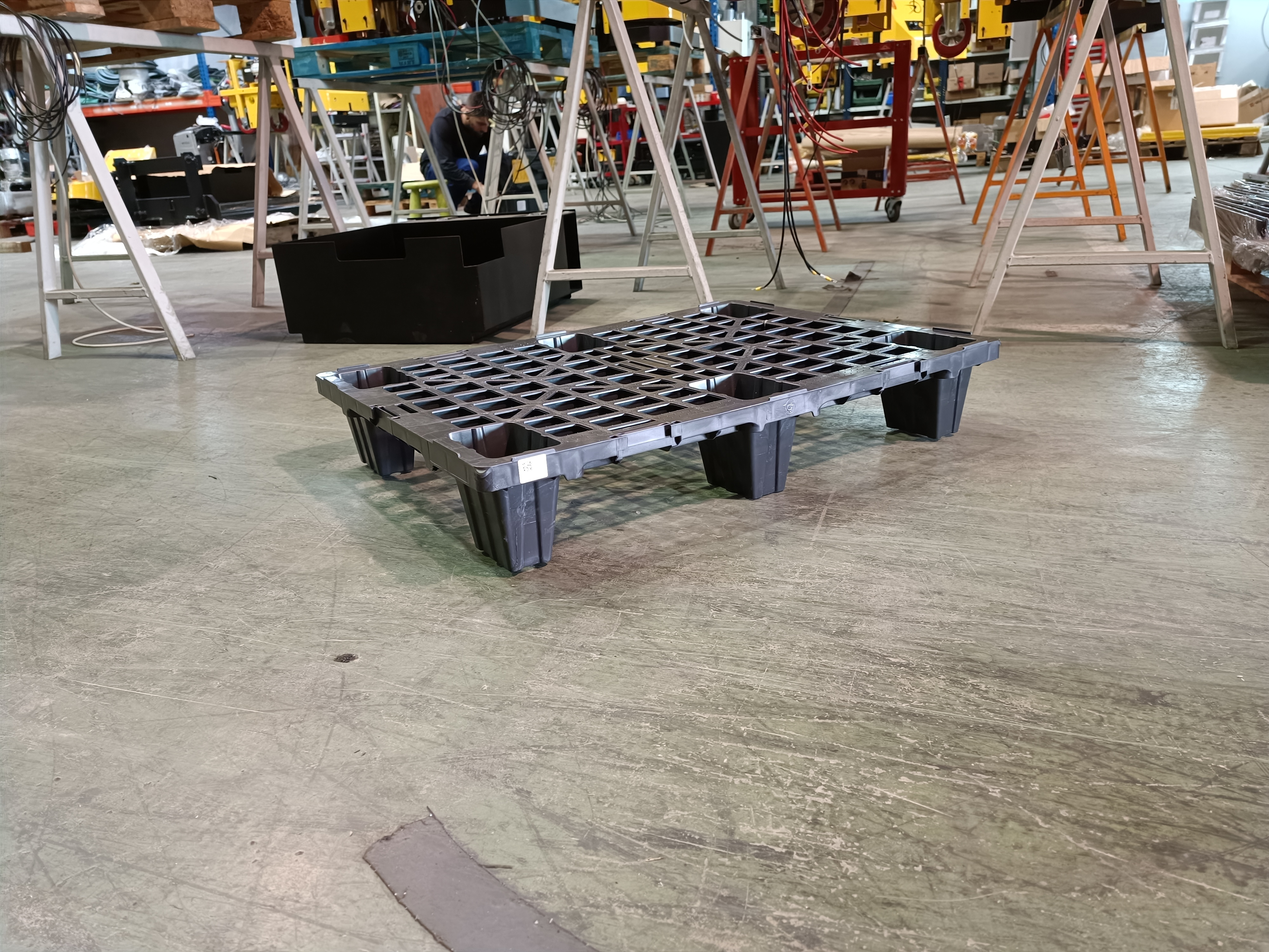block: (447, 447, 569, 574), (702, 421, 791, 499), (884, 368, 976, 439), (344, 403, 421, 478)
front: (479, 341, 1006, 579)
hole pallet: (560, 430, 747, 548), (784, 384, 938, 484)
